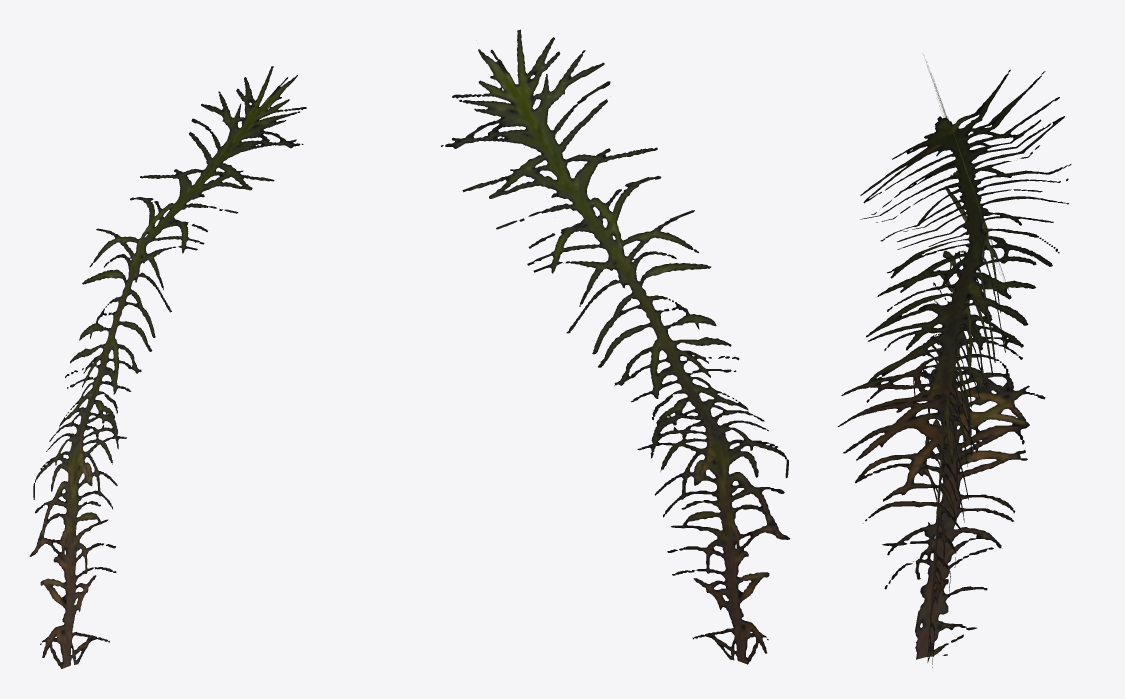
Rendered from Moss_11.fbx.
3 views of the same model, side by side, from view 1: azimuth 30°, elevation 25°; view 2: azimuth 150°, elevation 25°; view 3: azimuth 270°, elevation 25° (orthographic). The views are drawn at different scales.
Visible parts, largest first — view 1: Moss_11; view 2: Moss_11; view 3: Moss_11.
Boxes of the visible parts, x1=… form: Moss_11: x1=29, y1=66, x2=306, y2=668; Moss_11: x1=441, y1=29, x2=790, y2=664; Moss_11: x1=837, y1=54, x2=1071, y2=667.
Size of the model in its own units: 0.051 by 0.08 by 0.0269.
1 material, 1 textured.
